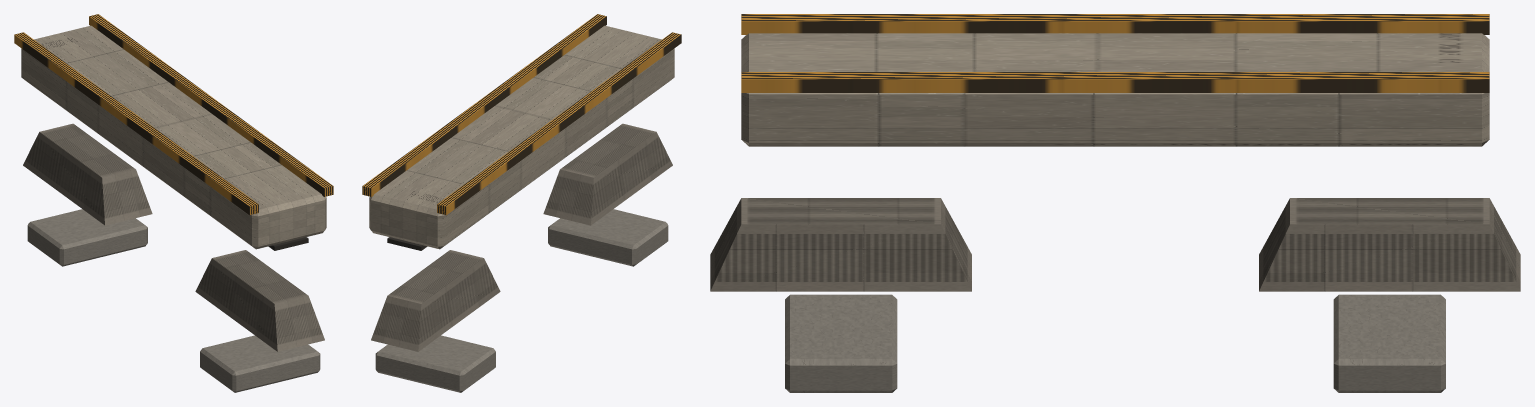
File: rail_seg.obj
The picture shows the model from 3 angles, left to right: view 1: azimuth 30°, elevation 25°; view 2: azimuth 150°, elevation 25°; view 3: azimuth 270°, elevation 25°; orthographic projection. The views are drawn at different scales.
Visible parts, largest first — view 1: rail_seg; view 2: rail_seg; view 3: rail_seg.
Boxes of the visible parts, bbox=[...] form: rail_seg: bbox=[14, 14, 333, 392]; rail_seg: bbox=[362, 14, 681, 392]; rail_seg: bbox=[710, 14, 1520, 392].
Size of the model in its own units: 1.3 by 2.78 by 6.5.
Materials: 1 (1 with a texture image).
